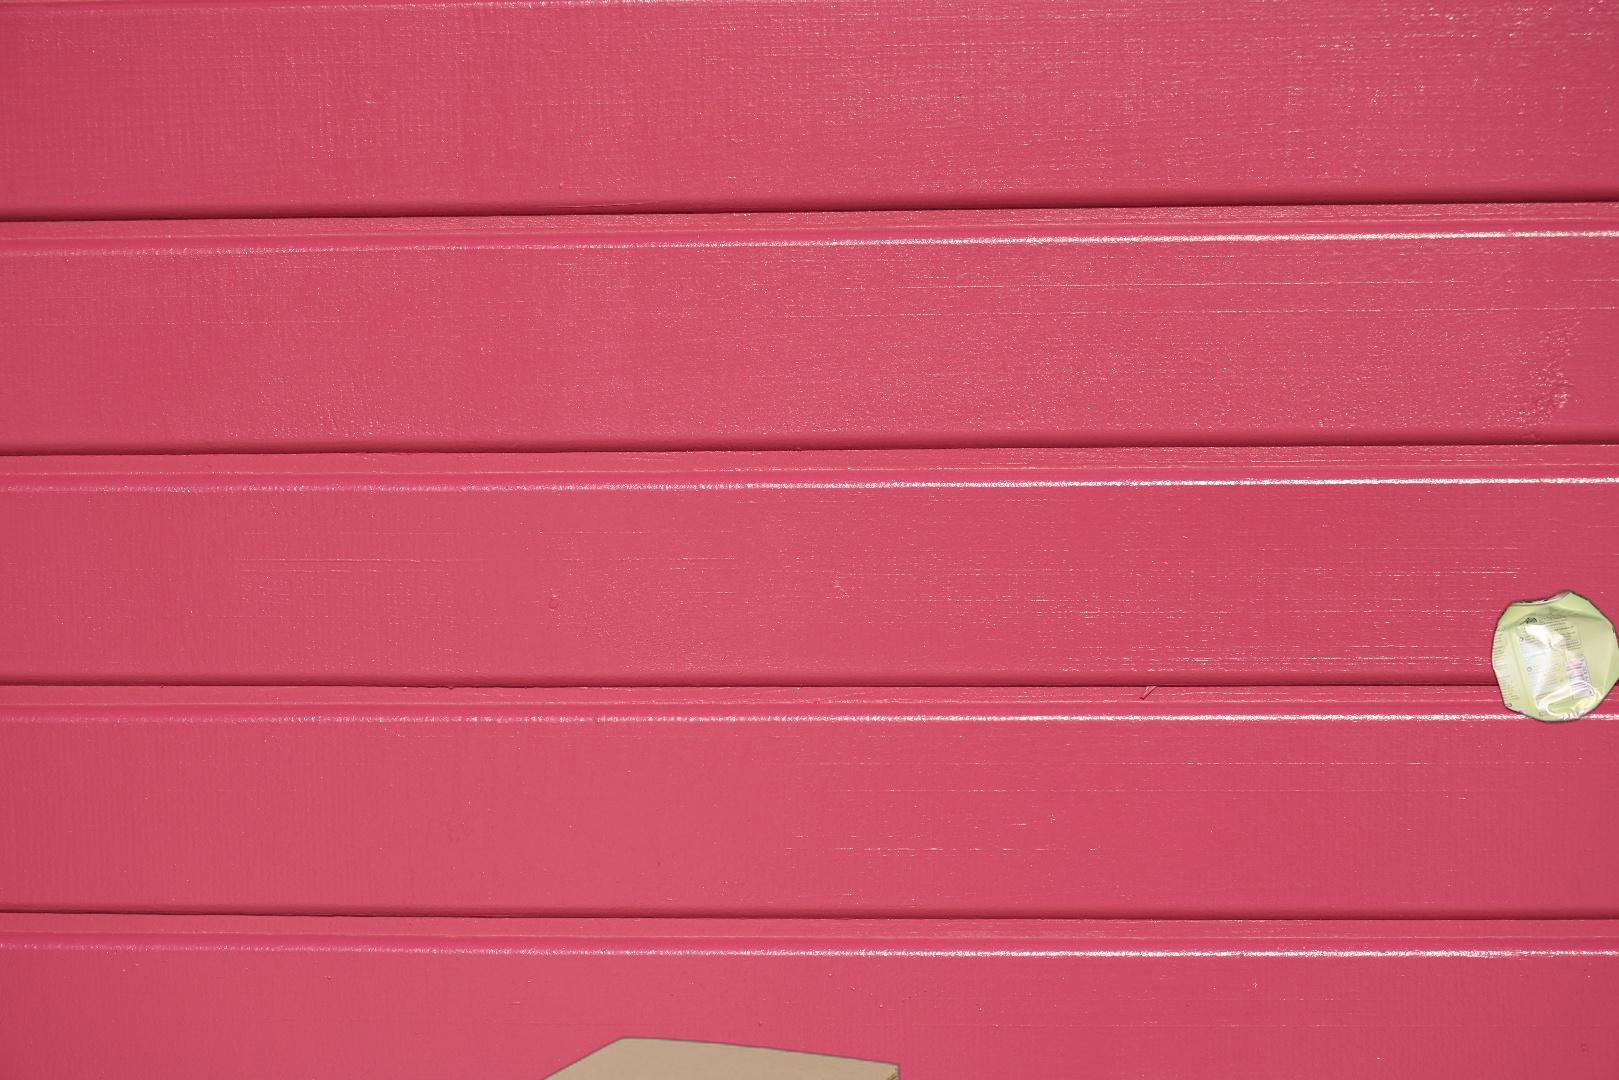metal-cans: (1486, 585, 1619, 728)
trashbox-cardboard: (451, 1031, 905, 1080)
